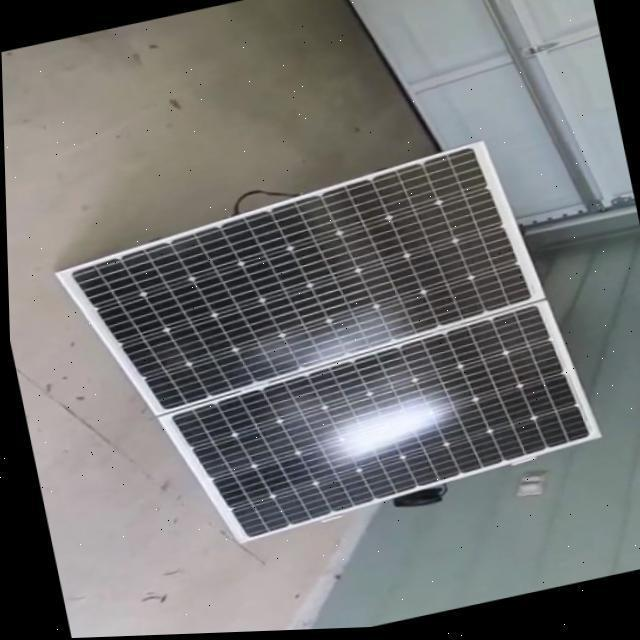Normal Solar Panel: (46, 143, 540, 430), (156, 304, 592, 554)
